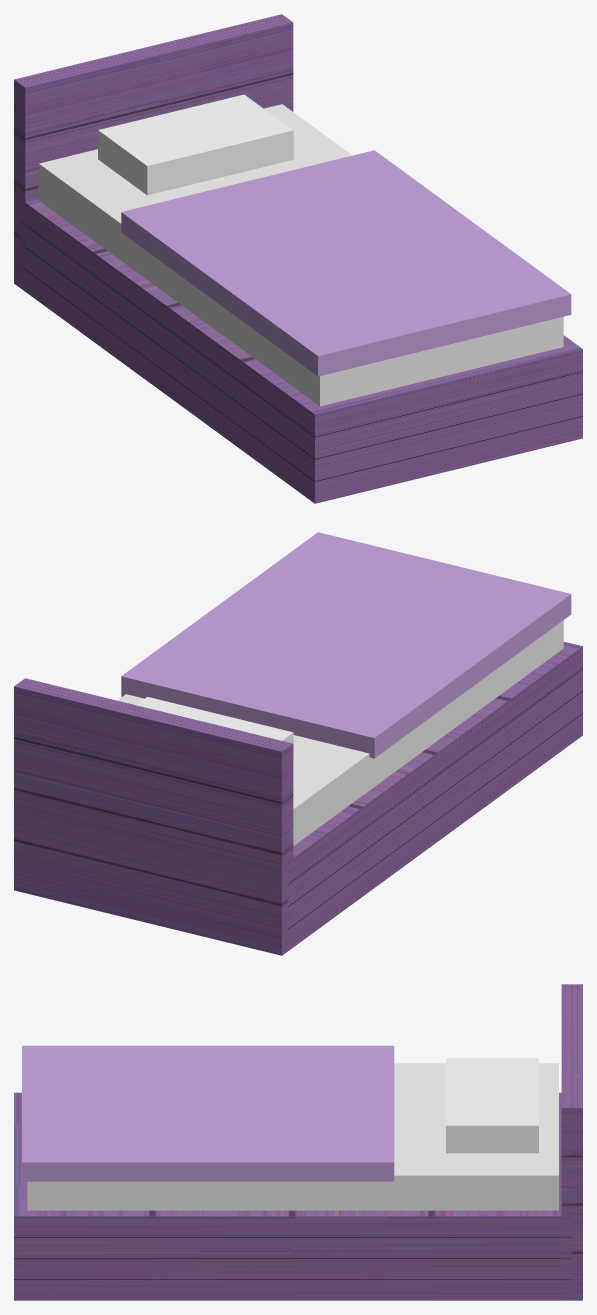
File: bed.glb
The picture shows the model from 3 angles, top to bottom: view 1: azimuth 30°, elevation 25°; view 2: azimuth 150°, elevation 25°; view 3: azimuth 270°, elevation 25°; orthographic projection. The views are drawn at different scales.
Visible parts, largest first — view 1: bed; view 2: bed; view 3: bed.
Part boxes in pixels (left/top/right/bottom): bed: left=14, top=14, right=582, bottom=503; bed: left=14, top=532, right=582, bottom=955; bed: left=14, top=984, right=582, bottom=1300.
Size of the model in its own units: 1.1 by 0.8 by 2.14.
4 materials, 1 textured.
